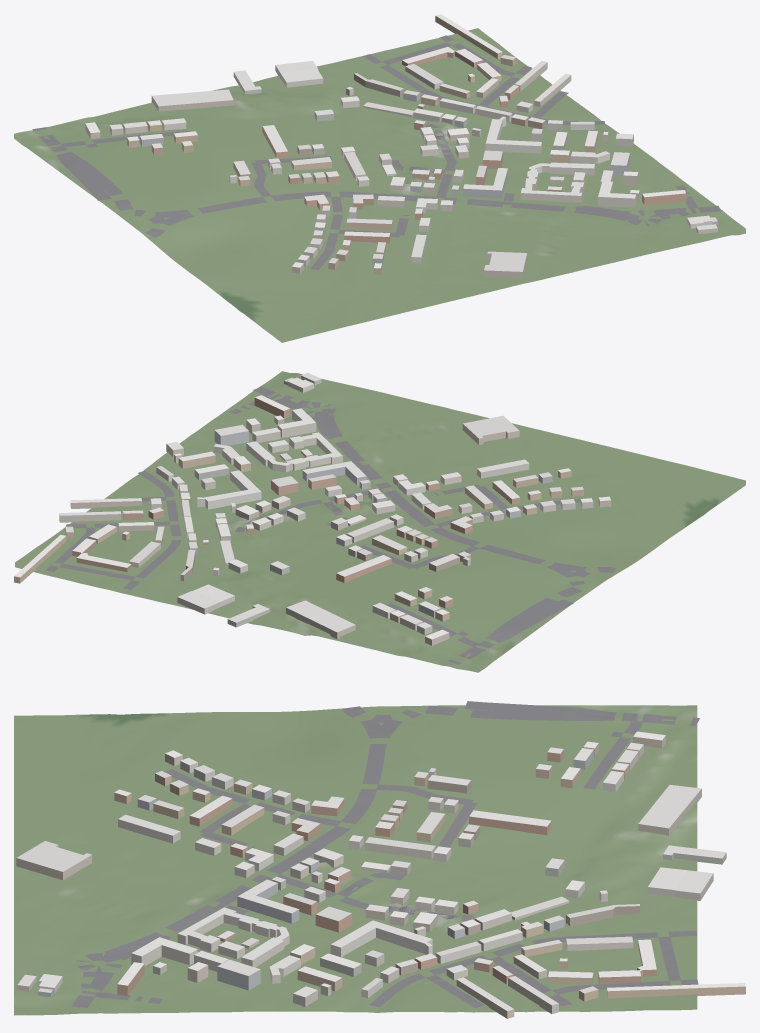
The picture shows the model from 3 angles, top to bottom: view 1: azimuth 30°, elevation 25°; view 2: azimuth 150°, elevation 25°; view 3: azimuth 270°, elevation 25°; orthographic projection. The views are drawn at different scales.
Visible parts, largest first — view 1: prim0, prim1, prim2; view 2: prim0, prim1, prim2; view 3: prim0, prim1, prim2.
Part boxes in pixels (x1,y1,x2,y2): prim0: (14, 28, 745, 342); prim1: (85, 14, 717, 278); prim2: (32, 35, 720, 269); prim0: (15, 371, 745, 672); prim1: (14, 372, 611, 645); prim2: (45, 387, 616, 664); prim0: (14, 705, 697, 1015); prim1: (16, 731, 745, 1018); prim2: (71, 701, 699, 1008).
Size of the model in its own units: 539 by 25.37 by 548.
